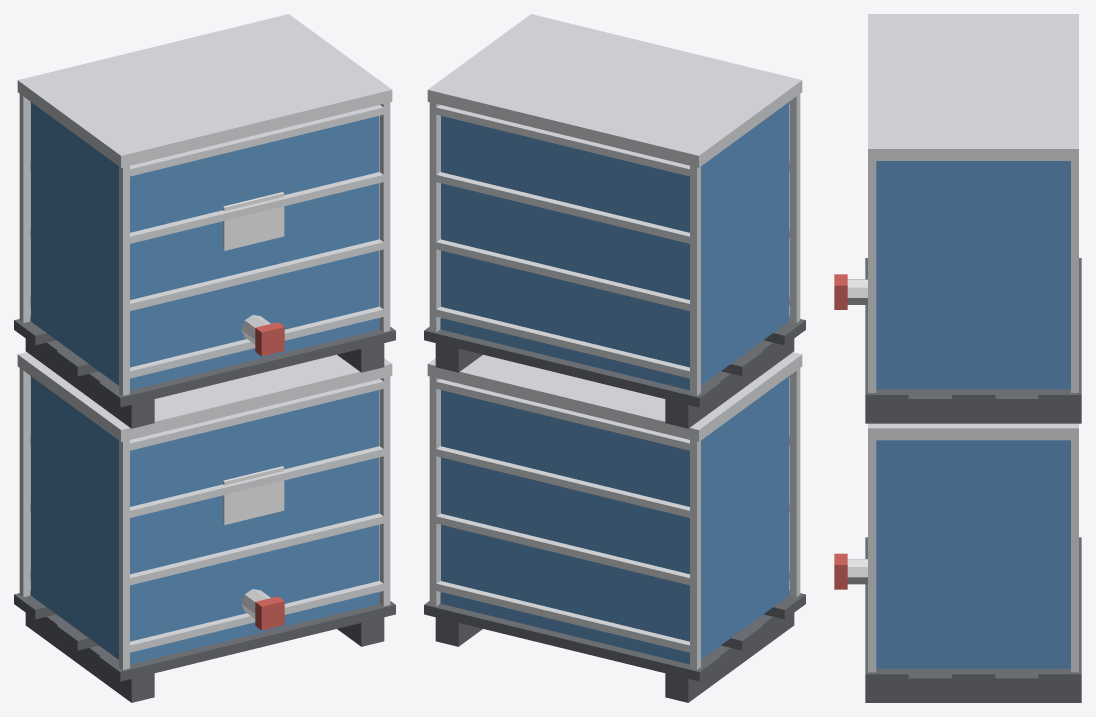
Rendered from vertical-farm-and-hydroponics-tower-vertical-farm-and--b817fa44__38360.glb.
The picture shows the model from 3 angles, left to right: view 1: azimuth 30°, elevation 25°; view 2: azimuth 150°, elevation 25°; view 3: azimuth 270°, elevation 25°; orthographic projection.
Parts seen in each view (by area): view 1: vertical-farm-and-hydroponics-tower-tote-stack; view 2: vertical-farm-and-hydroponics-tower-tote-stack; view 3: vertical-farm-and-hydroponics-tower-tote-stack.
Part boxes in pixels (left/top/right/bottom): vertical-farm-and-hydroponics-tower-tote-stack: left=14, top=14, right=395, bottom=702; vertical-farm-and-hydroponics-tower-tote-stack: left=424, top=14, right=805, bottom=702; vertical-farm-and-hydroponics-tower-tote-stack: left=834, top=14, right=1081, bottom=702.
Bounding box in the file's own units: 1.2 × 2.28 × 0.9149.
